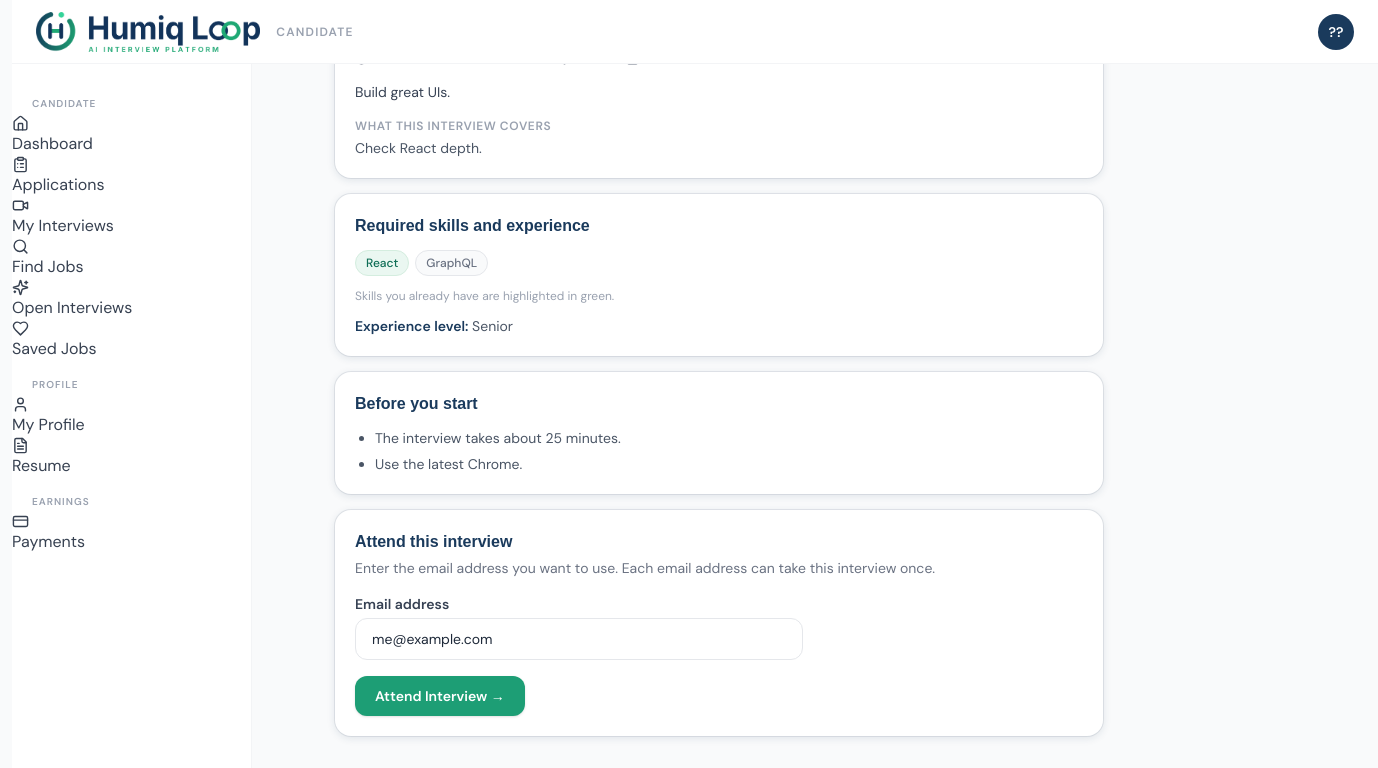
Test: Interview details + attend › NEGATIVE: an empty email is rejected
(page scrolled)
Clear the field labelled "Email address" at (579, 639), box [355,618,803,660]
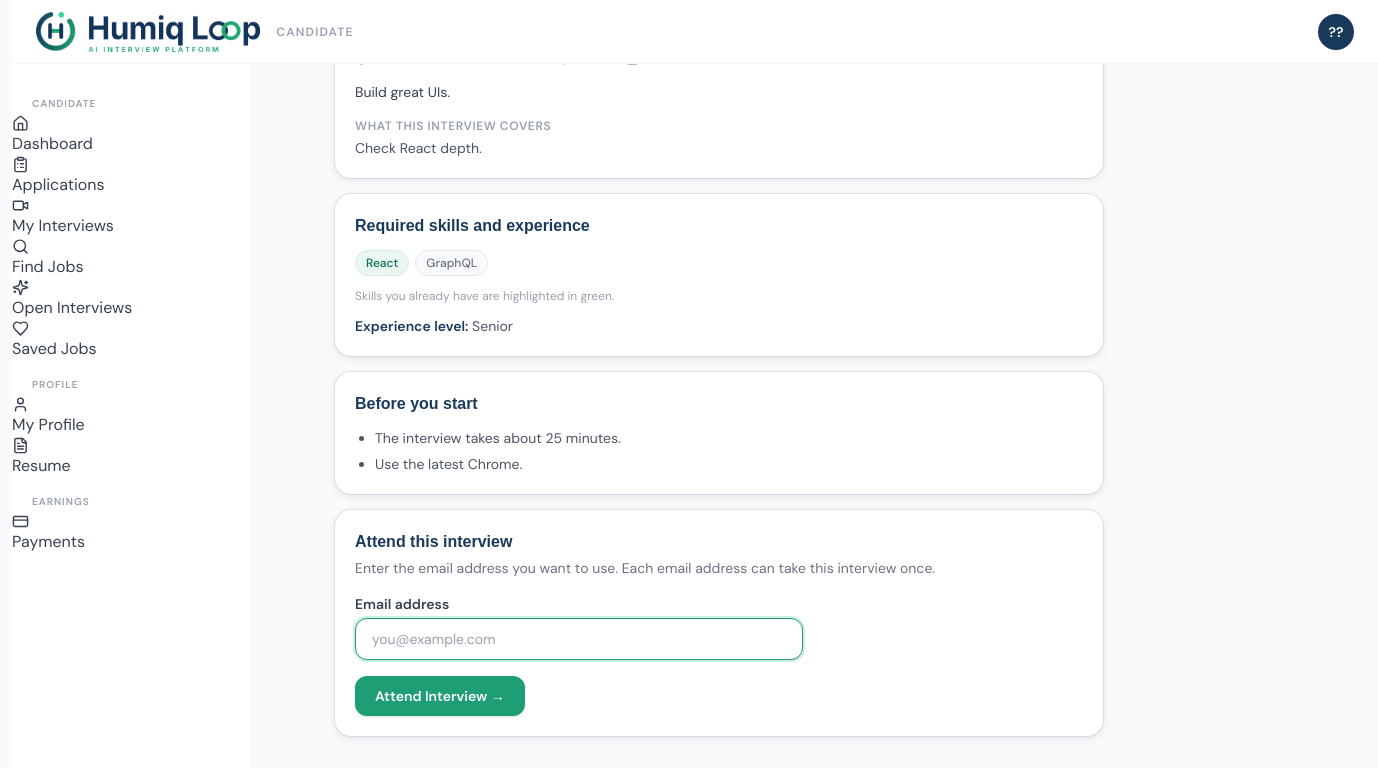
Click the button "Attend Interview →" at (440, 696), box [355,676,525,716]
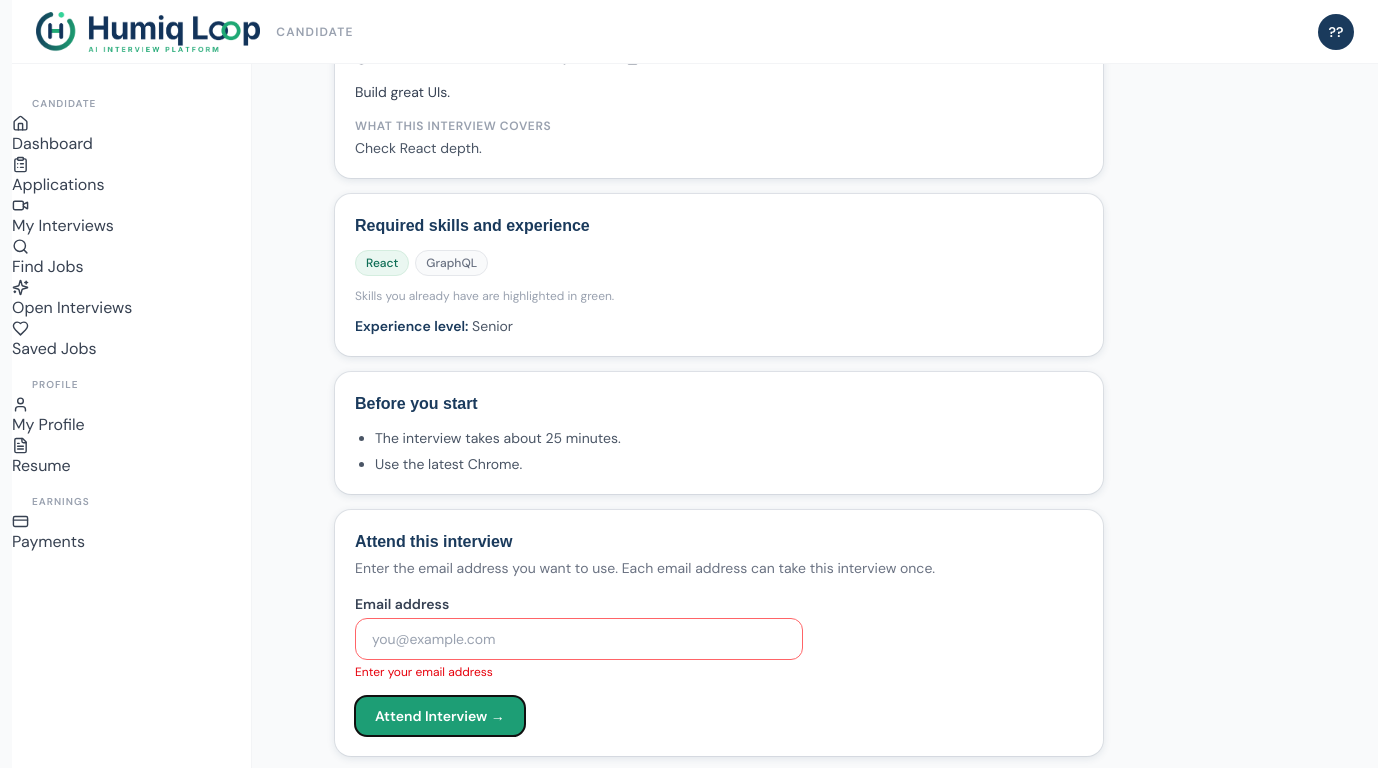
Result: the text "Enter your email address" is shown at [355,664,493,680]
